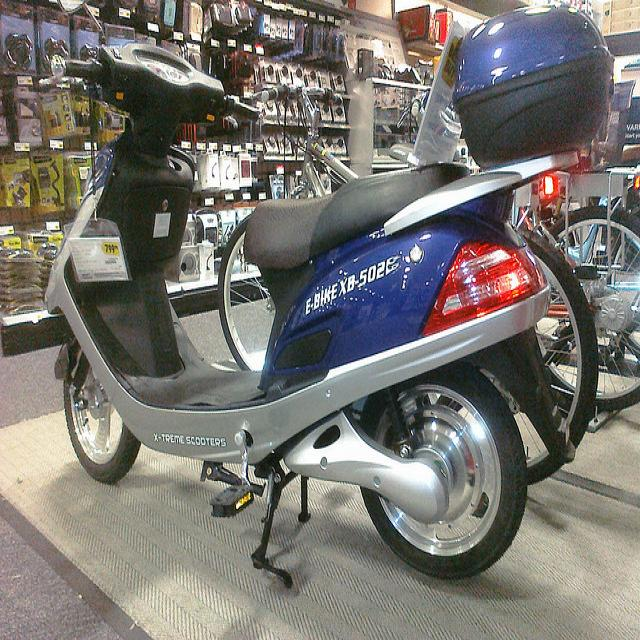motor: (44, 4, 618, 589)
